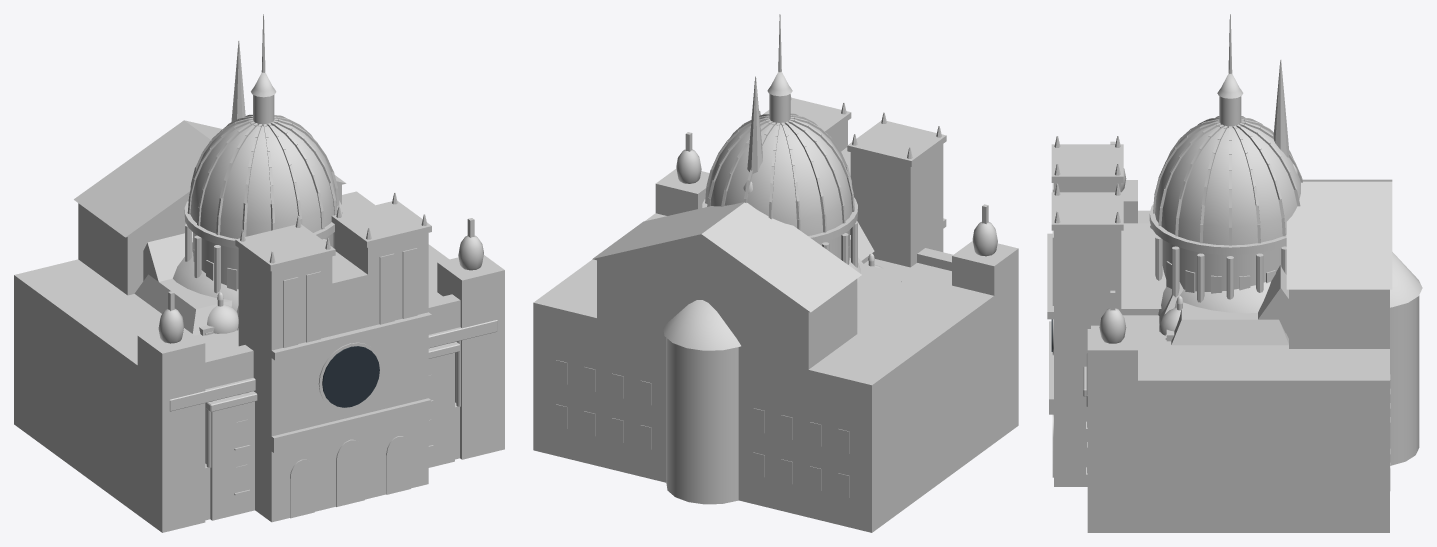
Rendered from paris_buildings.glb.
3 views of the same model, side by side, from view 1: azimuth 30°, elevation 25°; view 2: azimuth 150°, elevation 25°; view 3: azimuth 270°, elevation 25° (orthographic). The views are drawn at different scales.
Visible parts, largest first — view 1: opera, notre_dame, invalides, louvre_wing, sacre_coeur; view 2: opera, notre_dame, invalides, louvre_wing; view 3: opera, notre_dame, invalides, louvre_wing, sacre_coeur.
Part boxes in pixels (x1=…): opera: x1=14, y1=120, x2=504, y2=532; notre_dame: x1=143, y1=40, x2=431, y2=522; invalides: x1=184, y1=14, x2=460, y2=520; louvre_wing: x1=134, y1=274, x2=231, y2=335; sacre_coeur: x1=207, y1=292, x2=238, y2=333; opera: x1=533, y1=132, x2=1018, y2=532; notre_dame: x1=663, y1=76, x2=946, y2=504; invalides: x1=702, y1=14, x2=857, y2=267; louvre_wing: x1=857, y1=263, x2=907, y2=326; opera: x1=1086, y1=141, x2=1392, y2=532; notre_dame: x1=1047, y1=59, x2=1422, y2=486; invalides: x1=1083, y1=14, x2=1302, y2=476; louvre_wing: x1=1165, y1=302, x2=1288, y2=345; sacre_coeur: x1=1159, y1=296, x2=1183, y2=335.
Bounding box in the file's own units: 48 × 57 × 44.7.
